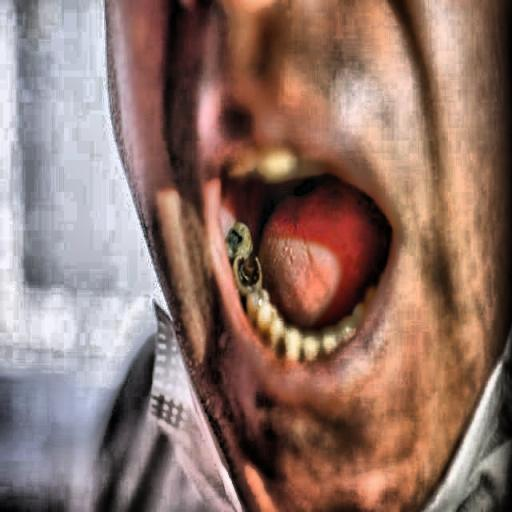Caries: (218, 221, 280, 301)
